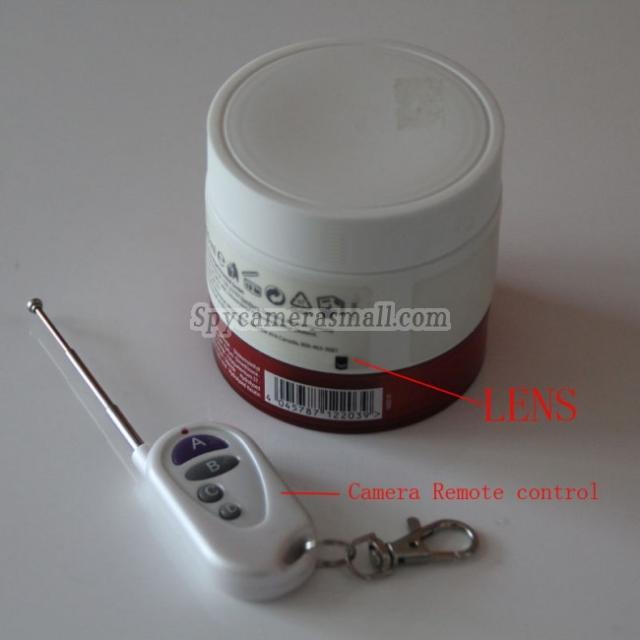hidden camera: (336, 355, 349, 370)
